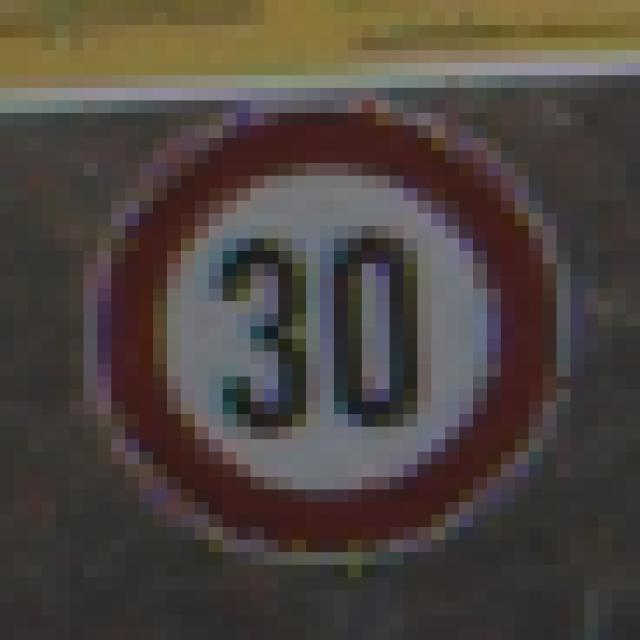Speed Limit -30-: (62, 56, 564, 571)
